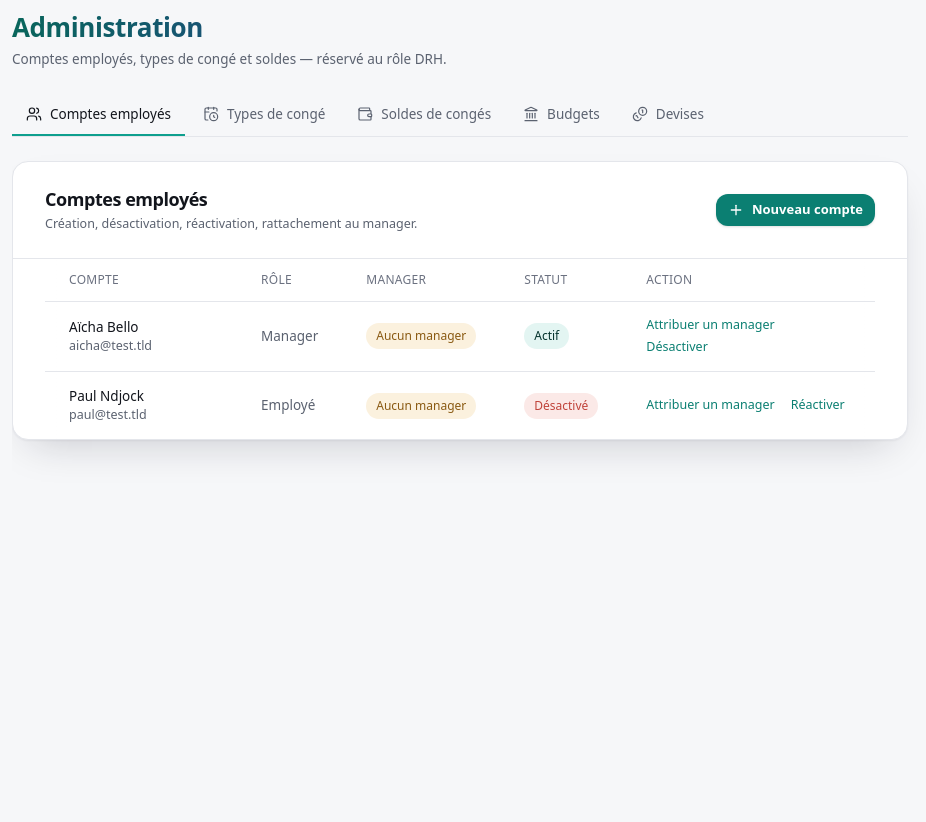
AdminPage — onglet Comptes › erreur de creation affichee, sans faire disparaitre le formulaire ni planter la page
Expected: the text "Aïcha Bello" is shown, top-left (69, 318), bottom-right (138, 336)
Step 1. Click the button "Nouveau compte" → (795, 210), box top-left (716, 194), bottom-right (875, 226)
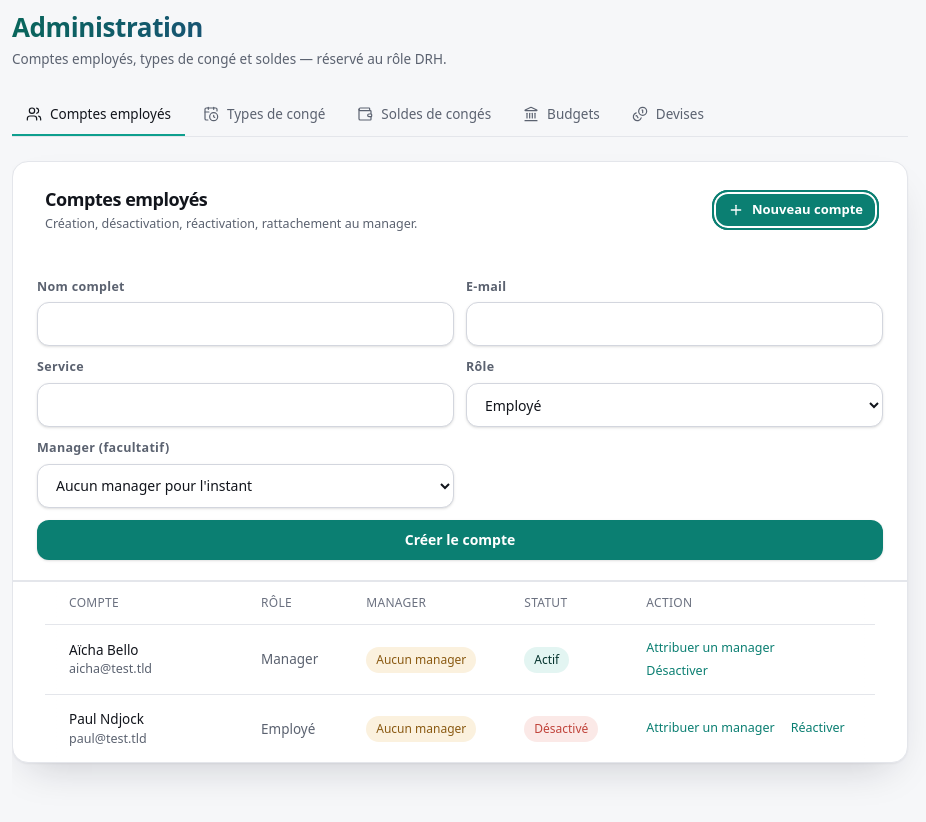
Step 2. Type "X" into the field labelled "Nom complet" → (246, 324), box top-left (37, 302), bottom-right (454, 346)
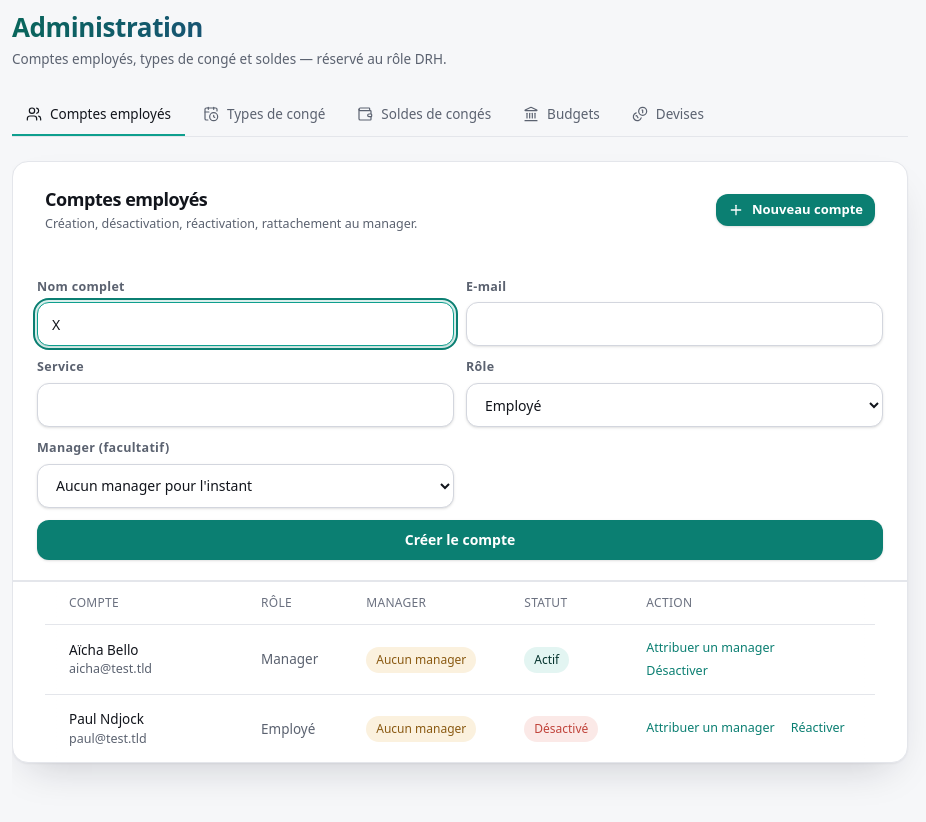
Step 3. Type "x@test.tld" into the field labelled "E-mail" → (674, 324), box top-left (466, 302), bottom-right (883, 346)
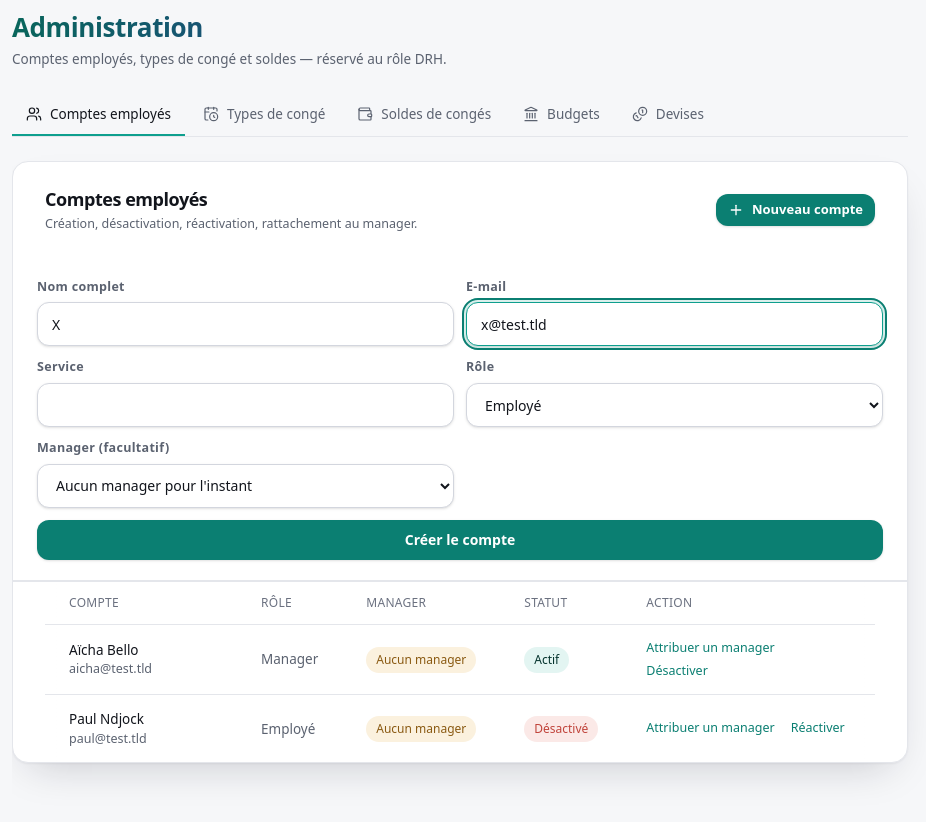
Step 4. Type "IT" into the field labelled "Service" → (246, 405), box top-left (37, 383), bottom-right (454, 427)
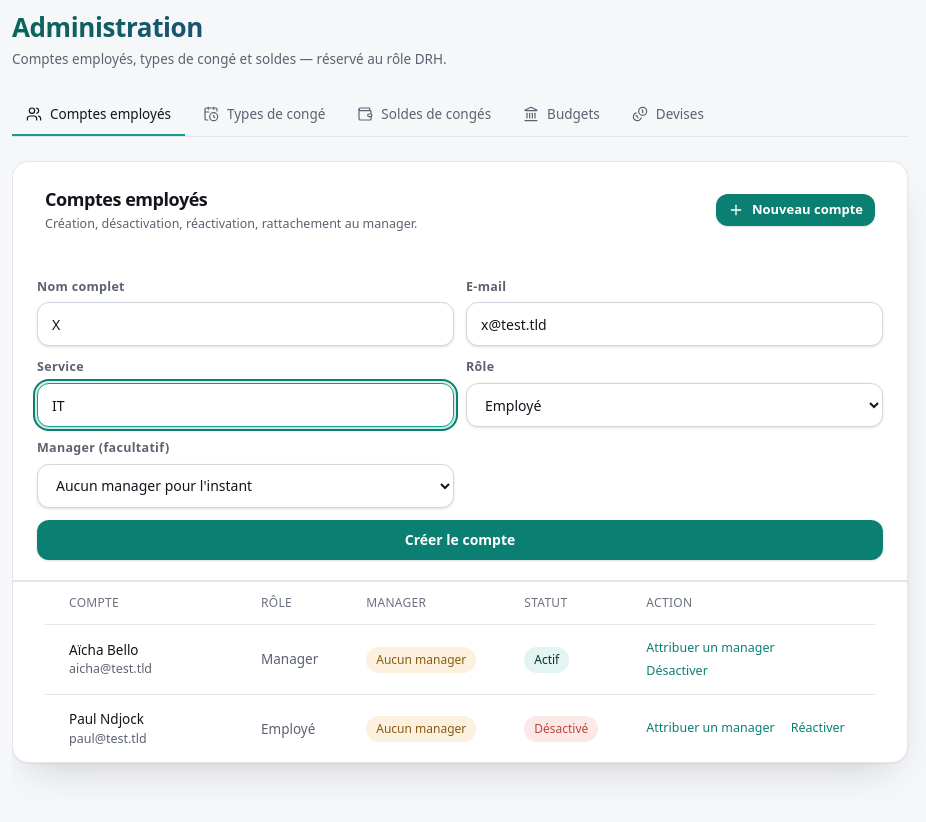
Step 5. Click the button "Créer le compte" → (460, 540), box top-left (37, 520), bottom-right (883, 560)
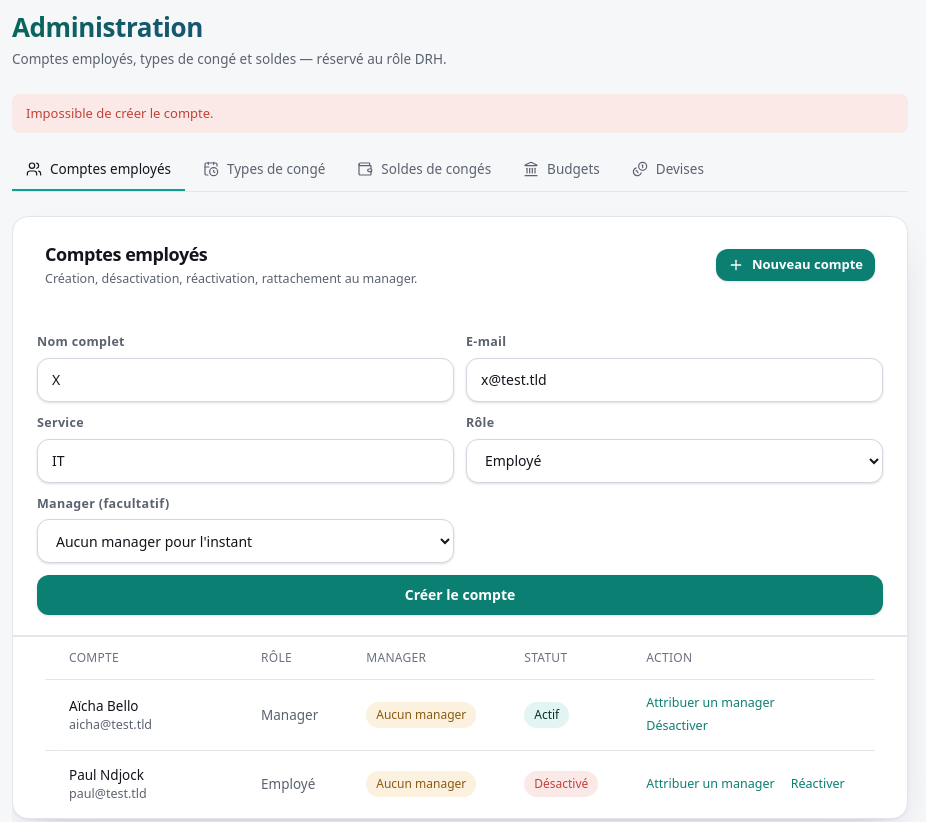
Expected: the text "Impossible de créer le compte." is shown, top-left (12, 94), bottom-right (908, 133)
